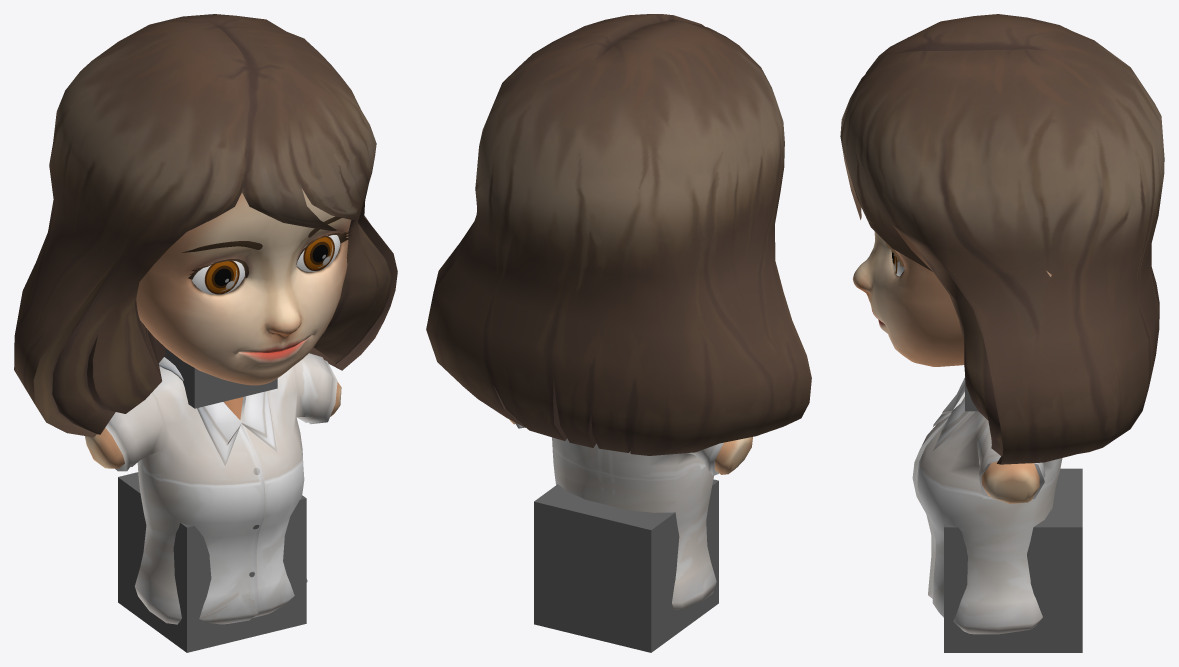
The model's file is Twoman.FBX.
The picture shows the model from 3 angles, left to right: view 1: azimuth 30°, elevation 25°; view 2: azimuth 150°, elevation 25°; view 3: azimuth 270°, elevation 25°; orthographic projection. The views are drawn at different scales.
Parts seen in each view (by area): view 1: Twoman_hair, Twoman_body, Twoman_face, TwomanBody, mainPivot, Twoman_eye2, Twoman_eye1; view 2: Twoman_hair, TwomanBody, Twoman_body; view 3: Twoman_hair, Twoman_body, TwomanBody, Twoman_face.
Boxes of the visible parts, <box> form: Twoman_hair: <box>14,14,397,437</box>; Twoman_body: <box>85,353,341,624</box>; Twoman_face: <box>136,189,351,419</box>; TwomanBody: <box>118,472,306,652</box>; mainPivot: <box>164,347,277,408</box>; Twoman_eye2: <box>192,260,244,294</box>; Twoman_eye1: <box>296,235,340,271</box>; Twoman_hair: <box>426,14,811,455</box>; TwomanBody: <box>534,479,718,652</box>; Twoman_body: <box>509,419,752,609</box>; Twoman_hair: <box>840,14,1164,464</box>; Twoman_body: <box>912,378,1062,634</box>; TwomanBody: <box>944,468,1082,652</box>; Twoman_face: <box>853,225,1051,366</box>.
Size of the model in its own units: 65.24 by 102 by 50.54.
